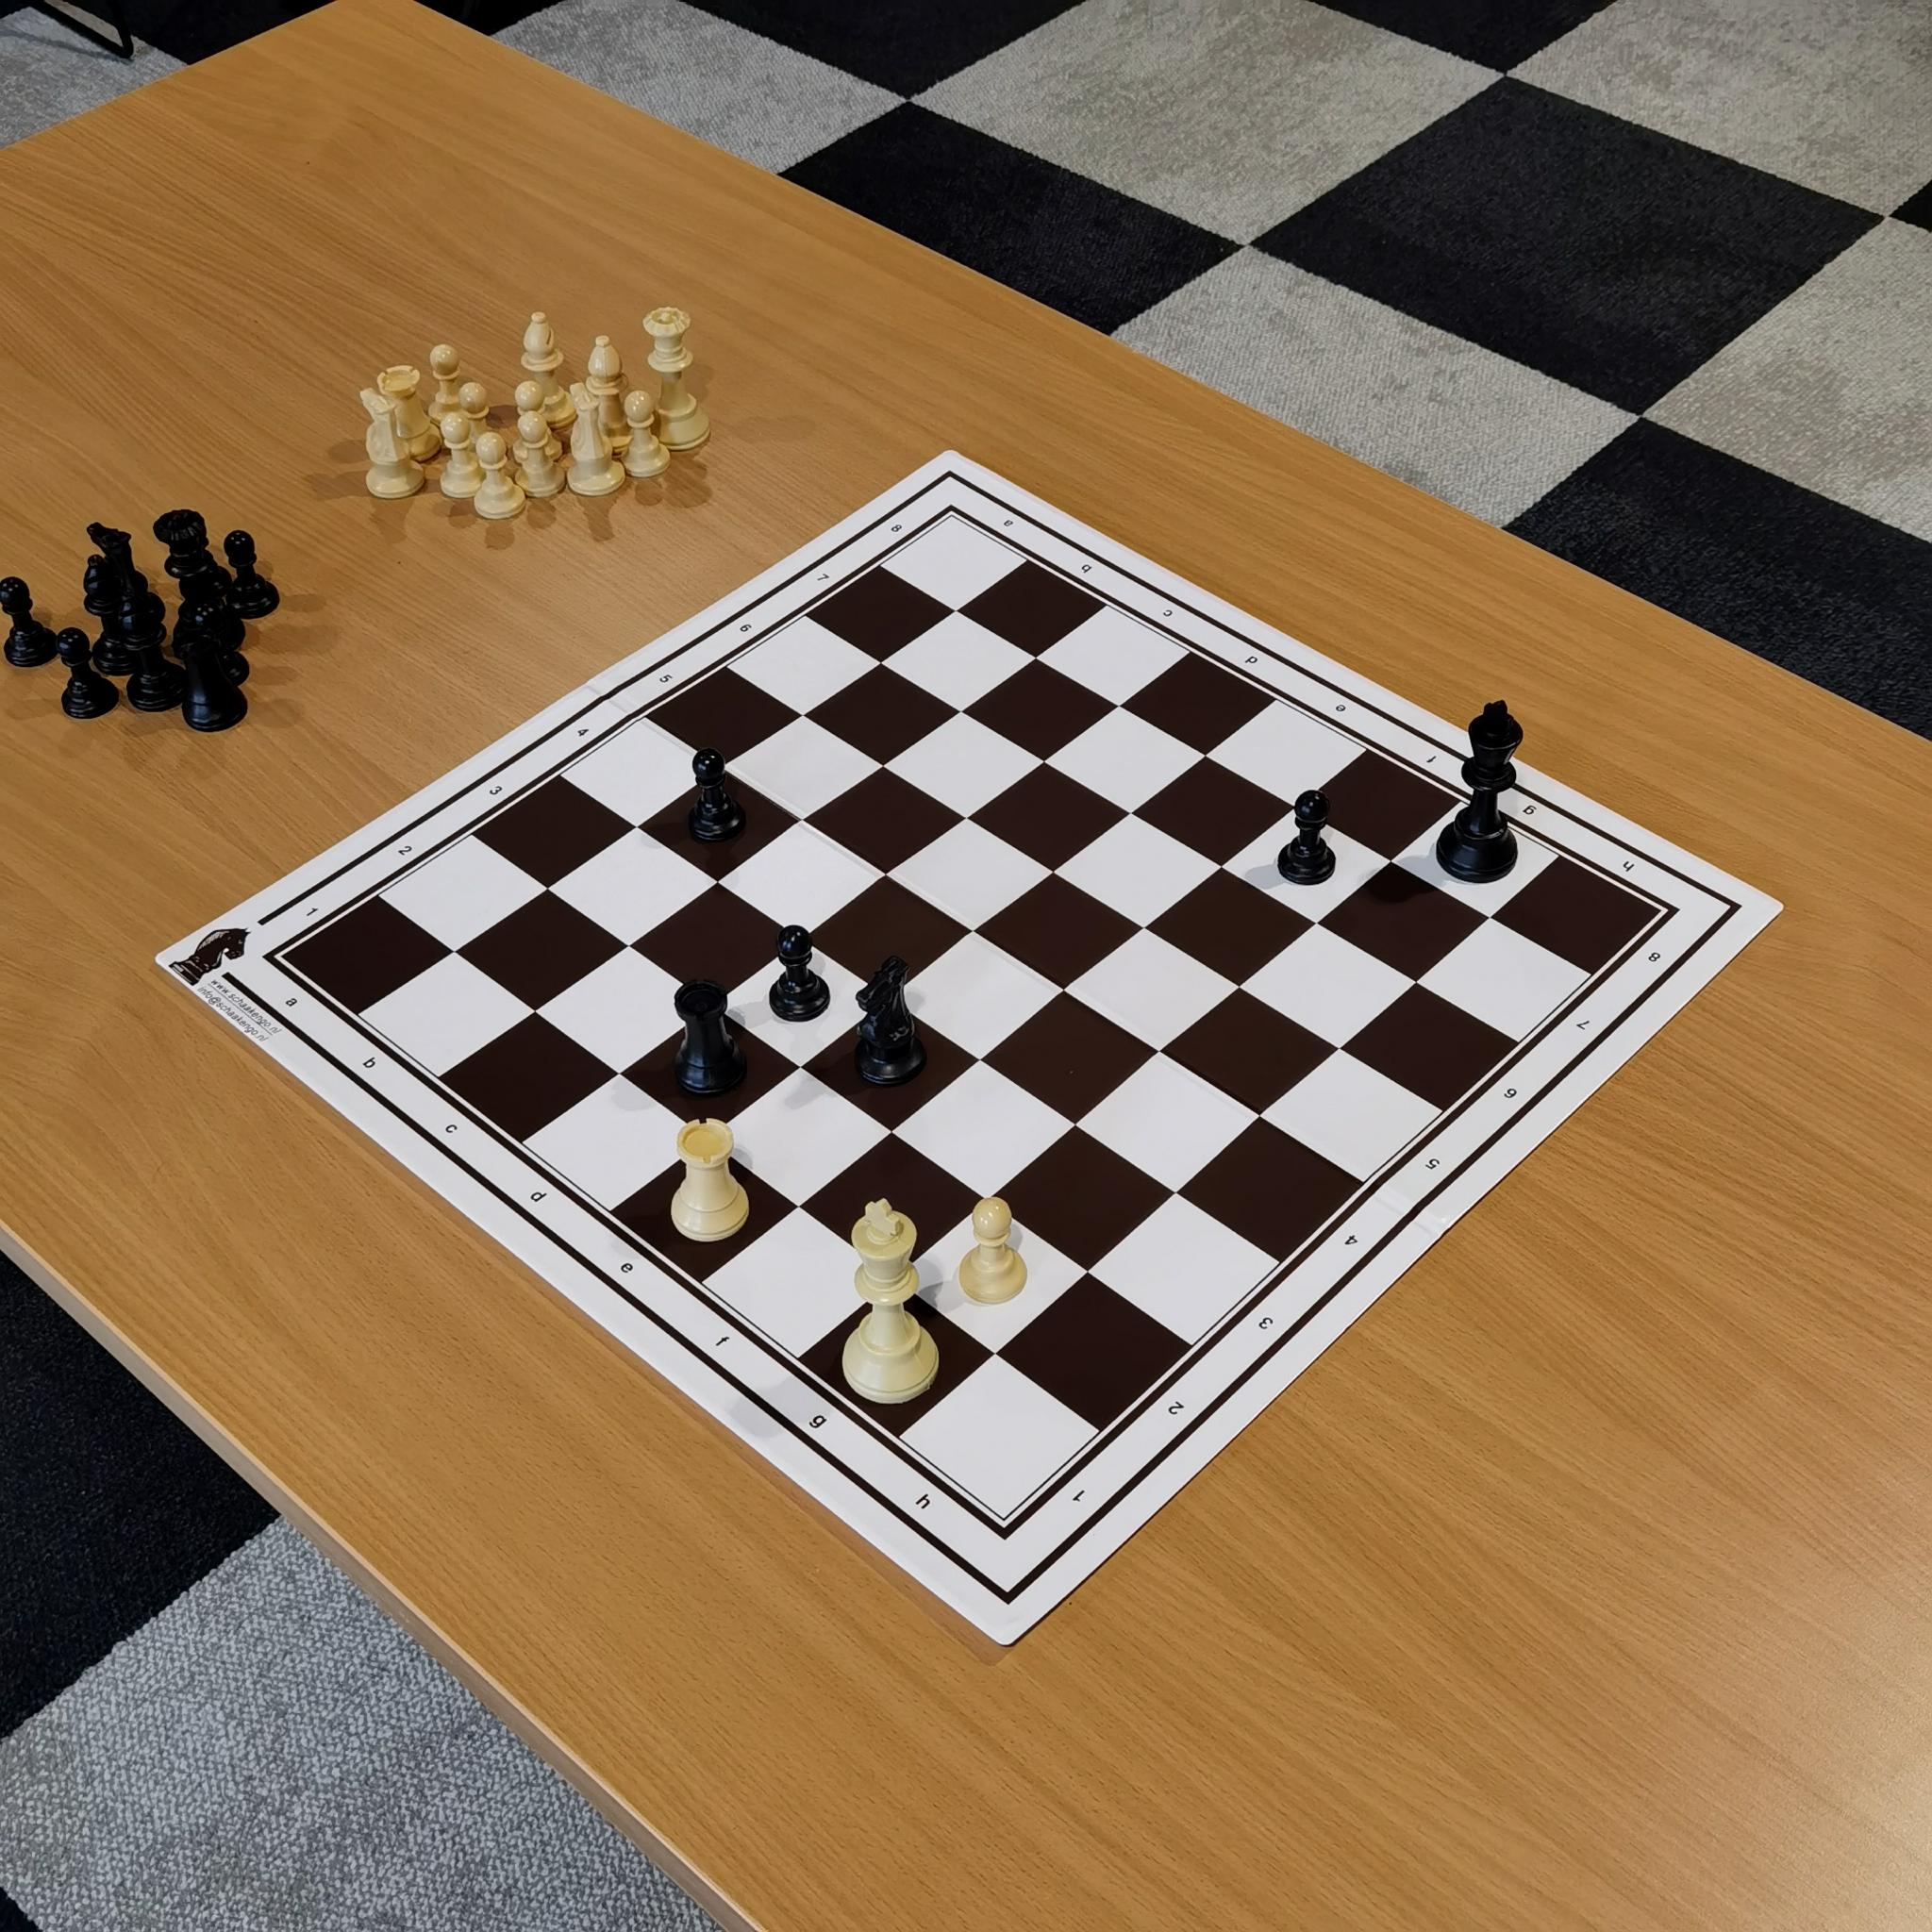corners: (976, 1495, 1030, 1550), (253, 936, 308, 977), (1638, 890, 1691, 928), (928, 498, 976, 540)
eight: (1632, 939, 1681, 975), (879, 509, 915, 541)
one: (1057, 1469, 1103, 1520), (291, 892, 330, 933)
